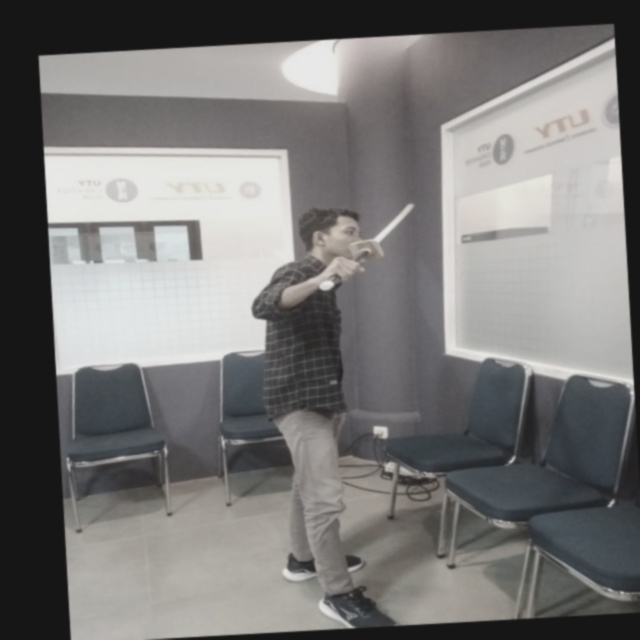Sharp-Object: (318, 199, 433, 299)
